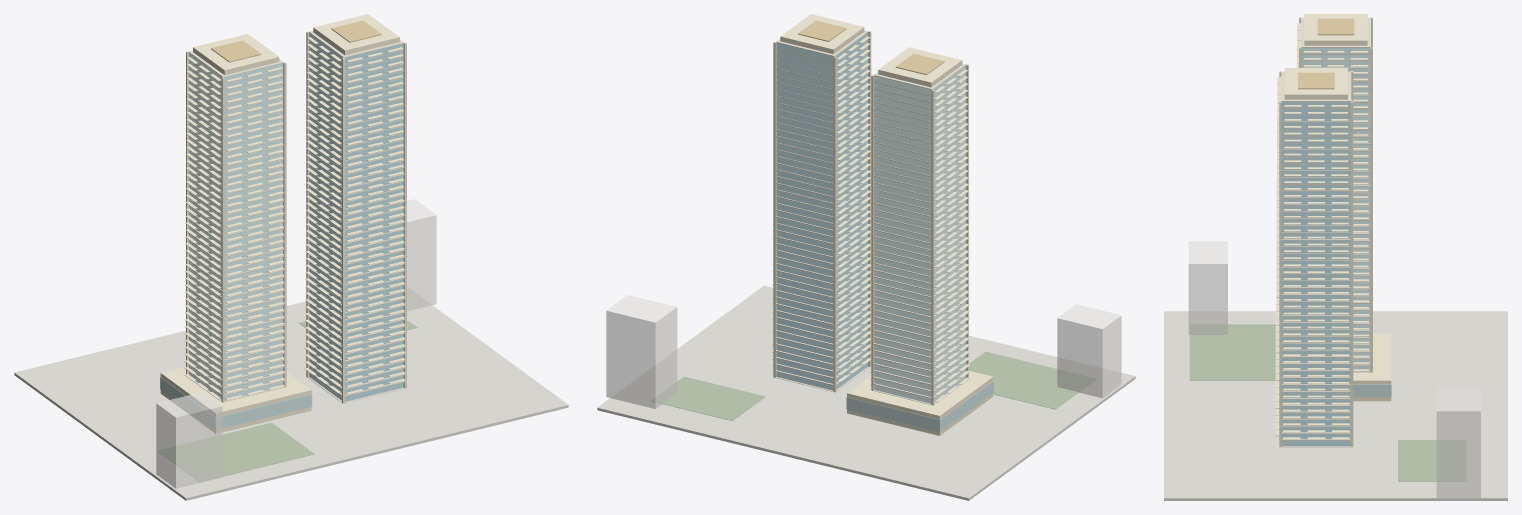
Rendered from rich-duo-v1.glb.
3 views of the same model, side by side, from view 1: azimuth 30°, elevation 25°; view 2: azimuth 150°, elevation 25°; view 3: azimuth 270°, elevation 25° (orthographic). The views are drawn at different scales.
Visible parts, largest first — view 1: site, b1glass, b0glass, ctx1, green1, b0pod, ctx0, b0podglass, b1crown, b0crown, b1fin-11, b0fin-11 (+6 smaller); view 2: site, b1glass, b0glass, ctx0, ctx1, b0pod, green1, green2, b0podglass, b0crown, b1crown, b1fin-1-1 (+7 smaller); view 3: site, b1glass, ctx0, b0glass, green1, ctx1, green2, b0pod, b0crown, b1crown, b1fin1-1, b1fin11 (+7 smaller).
Boxes of the visible parts, x1,y1,x2,y2 form: site: (14,287,568,500); b1glass: (309,33,403,401); b0glass: (189,53,283,400); ctx1: (156,392,222,488); green1: (157,422,314,481); b0pod: (160,366,311,433); ctx0: (407,199,436,311); b0podglass: (160,377,312,429); b1crown: (313,14,399,55); b0crown: (193,34,279,75); b1fin-11: (342,57,345,403); b0fin-11: (221,77,224,402); site: (597,285,1135,500); b1glass: (776,33,868,390); b0glass: (874,66,966,403); ctx0: (606,295,677,408); ctx1: (1057,304,1121,398); b0pod: (847,370,993,435); green1: (965,351,1096,409); green2: (651,376,765,420); b0podglass: (846,380,993,432); b0crown: (878,47,962,87); b1crown: (780,14,864,54); b1fin-1-1: (833,56,836,391); site: (1164,311,1507,500); b1glass: (1282,102,1350,446); ctx0: (1436,386,1480,500); b0glass: (1301,48,1370,371); green1: (1189,324,1275,380); ctx1: (1188,241,1227,334); green2: (1398,440,1466,481); b0pod: (1353,333,1391,401); b0crown: (1304,14,1367,45); b1crown: (1284,68,1347,99); b1fin1-1: (1350,101,1353,447); b1fin11: (1279,101,1281,447).
Size of the model in its own units: 182 by 159 by 140.
